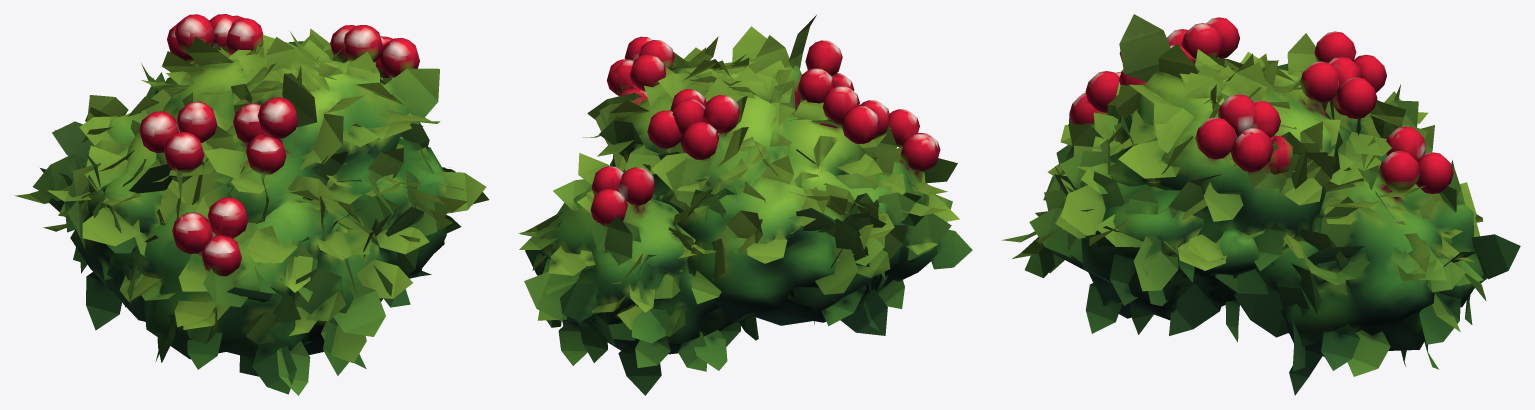
Rendered from berry_bush.glb.
3 views of the same model, side by side, from view 1: azimuth 30°, elevation 25°; view 2: azimuth 150°, elevation 25°; view 3: azimuth 270°, elevation 25° (orthographic). The views are drawn at different scales.
Parts seen in each view (by area): view 1: berry_bush; view 2: berry_bush; view 3: berry_bush.
Part boxes in pixels (x1=…): berry_bush: x1=14, y1=14, x2=489, y2=395; berry_bush: x1=518, y1=15, x2=972, y2=395; berry_bush: x1=1001, y1=14, x2=1520, y2=395.
Size of the model in its own units: 1.77 by 1.47 by 2.1.
Materials: 1 (1 with a texture image).
